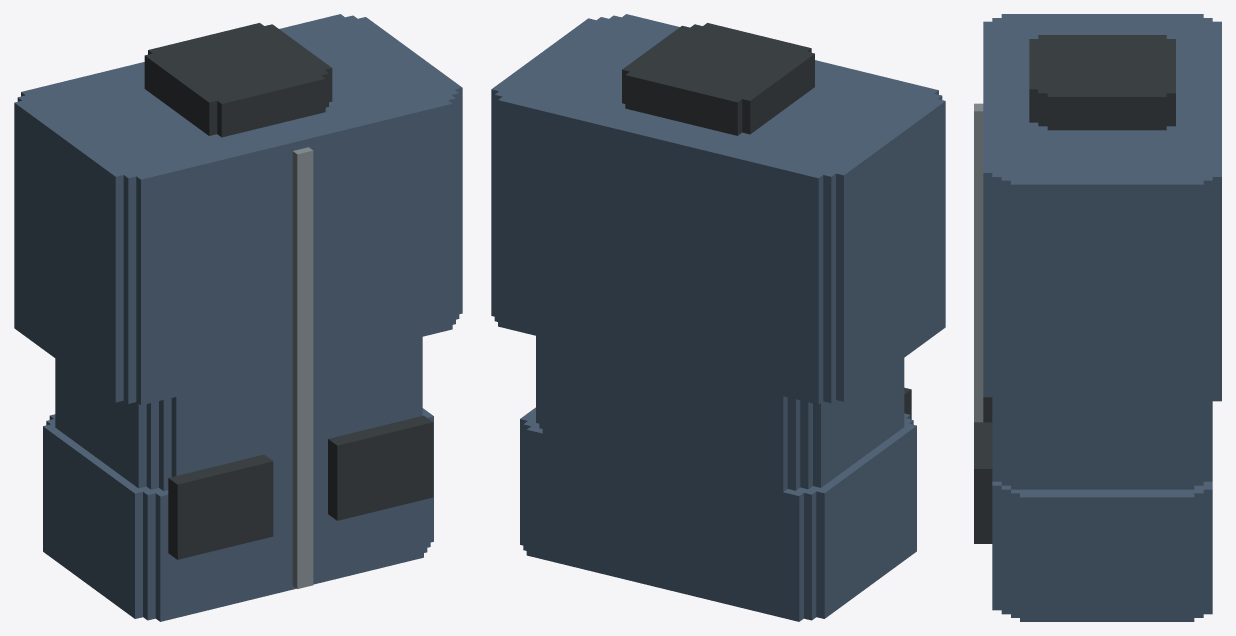
Rendered from worn_jacket_body.glb.
3 views of the same model, side by side, from view 1: azimuth 30°, elevation 25°; view 2: azimuth 150°, elevation 25°; view 3: azimuth 270°, elevation 25° (orthographic).
Parts seen in each view (by area): view 1: garment:compound; view 2: garment:compound; view 3: garment:compound.
Boxes of the visible parts, left/top/right/bottom form: garment:compound: left=14, top=14, right=462, bottom=621; garment:compound: left=491, top=14, right=945, bottom=621; garment:compound: left=974, top=14, right=1221, bottom=621.
Size of the model in its own units: 0.44 by 0.58 by 0.27.
